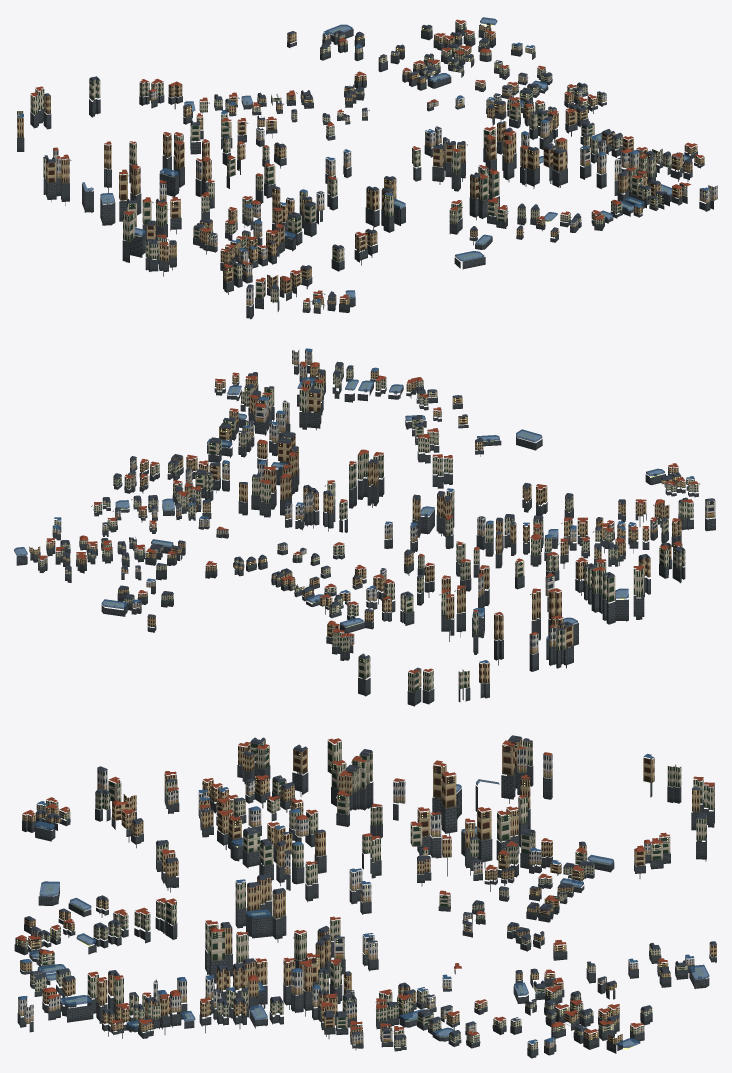
File: osm_buildings_T_E01_N00_Q1.glb
3 renders of one model, top to bottom at view 1: azimuth 30°, elevation 25°; view 2: azimuth 150°, elevation 25°; view 3: azimuth 270°, elevation 25°, orthographic. The views are drawn at different scales.
Parts seen in each view (by area): view 1: OSM_PBR_T_E01_N00_Q1_foundation, OSM_PBR_T_E01_N00_Q1_wall_french_ochre, OSM_PBR_T_E01_N00_Q1_wall_cream_stucco, OSM_PBR_T_E01_N00_Q1_roof_terracotta, OSM_PBR_T_E01_N00_Q1_roof_mansard_slate, OSM_PBR_T_E01_N00_Q1_wall_pastel_sand, OSM_PBR_T_E01_N00_Q1_greenhouse_blend, OSM_PBR_T_E01_N00_Q1_wall_warm_white, OSM_PBR_T_E01_N00_Q1_roof_mansard_deck, OSM_PBR_T_E01_N00_Q1_roof_mint_metal, OSM_PBR_T_E01_N00_Q1_roof_alpine_blue, OSM_PBR_T_E01_N00_Q1_balcony_railing (+1 smaller); view 2: OSM_PBR_T_E01_N00_Q1_foundation, OSM_PBR_T_E01_N00_Q1_wall_cream_stucco, OSM_PBR_T_E01_N00_Q1_wall_french_ochre, OSM_PBR_T_E01_N00_Q1_roof_terracotta, OSM_PBR_T_E01_N00_Q1_roof_mansard_slate, OSM_PBR_T_E01_N00_Q1_greenhouse_blend, OSM_PBR_T_E01_N00_Q1_wall_warm_white, OSM_PBR_T_E01_N00_Q1_wall_pastel_sand, OSM_PBR_T_E01_N00_Q1_roof_mansard_deck, OSM_PBR_T_E01_N00_Q1_trim_cornice, OSM_PBR_T_E01_N00_Q1_roof_mint_metal, OSM_PBR_T_E01_N00_Q1_roof_alpine_blue; view 3: OSM_PBR_T_E01_N00_Q1_foundation, OSM_PBR_T_E01_N00_Q1_wall_cream_stucco, OSM_PBR_T_E01_N00_Q1_wall_french_ochre, OSM_PBR_T_E01_N00_Q1_roof_terracotta, OSM_PBR_T_E01_N00_Q1_roof_mansard_slate, OSM_PBR_T_E01_N00_Q1_greenhouse_blend, OSM_PBR_T_E01_N00_Q1_wall_pastel_sand, OSM_PBR_T_E01_N00_Q1_wall_warm_white, OSM_PBR_T_E01_N00_Q1_roof_mansard_deck, OSM_PBR_T_E01_N00_Q1_trim_cornice, OSM_PBR_T_E01_N00_Q1_roof_mint_metal, OSM_PBR_T_E01_N00_Q1_roof_alpine_blue (+2 smaller).
Boxes of the visible parts, x1=… form: OSM_PBR_T_E01_N00_Q1_foundation: x1=17, y1=24, x2=713, y2=319; OSM_PBR_T_E01_N00_Q1_wall_french_ochre: x1=17, y1=23, x2=704, y2=304; OSM_PBR_T_E01_N00_Q1_wall_cream_stucco: x1=17, y1=21, x2=670, y2=309; OSM_PBR_T_E01_N00_Q1_roof_terracotta: x1=31, y1=19, x2=703, y2=301; OSM_PBR_T_E01_N00_Q1_roof_mansard_slate: x1=43, y1=25, x2=691, y2=300; OSM_PBR_T_E01_N00_Q1_wall_pastel_sand: x1=56, y1=44, x2=687, y2=263; OSM_PBR_T_E01_N00_Q1_greenhouse_blend: x1=82, y1=17, x2=689, y2=298; OSM_PBR_T_E01_N00_Q1_wall_warm_white: x1=53, y1=32, x2=717, y2=305; OSM_PBR_T_E01_N00_Q1_roof_mansard_deck: x1=47, y1=24, x2=690, y2=298; OSM_PBR_T_E01_N00_Q1_roof_mint_metal: x1=30, y1=30, x2=696, y2=307; OSM_PBR_T_E01_N00_Q1_roof_alpine_blue: x1=17, y1=30, x2=709, y2=302; OSM_PBR_T_E01_N00_Q1_balcony_railing: x1=30, y1=24, x2=703, y2=307; OSM_PBR_T_E01_N00_Q1_foundation: x1=16, y1=364, x2=715, y2=706; OSM_PBR_T_E01_N00_Q1_wall_cream_stucco: x1=38, y1=364, x2=698, y2=692; OSM_PBR_T_E01_N00_Q1_wall_french_ochre: x1=29, y1=364, x2=685, y2=687; OSM_PBR_T_E01_N00_Q1_roof_terracotta: x1=38, y1=361, x2=698, y2=673; OSM_PBR_T_E01_N00_Q1_roof_mansard_slate: x1=60, y1=362, x2=715, y2=669; OSM_PBR_T_E01_N00_Q1_greenhouse_blend: x1=14, y1=377, x2=664, y2=639; OSM_PBR_T_E01_N00_Q1_wall_warm_white: x1=115, y1=350, x2=715, y2=654; OSM_PBR_T_E01_N00_Q1_wall_pastel_sand: x1=52, y1=363, x2=636, y2=647; OSM_PBR_T_E01_N00_Q1_roof_mansard_deck: x1=17, y1=361, x2=687, y2=657; OSM_PBR_T_E01_N00_Q1_trim_cornice: x1=32, y1=349, x2=714, y2=671; OSM_PBR_T_E01_N00_Q1_roof_mint_metal: x1=30, y1=370, x2=697, y2=679; OSM_PBR_T_E01_N00_Q1_roof_alpine_blue: x1=53, y1=348, x2=694, y2=663; OSM_PBR_T_E01_N00_Q1_foundation: x1=14, y1=761, x2=716, y2=1058; OSM_PBR_T_E01_N00_Q1_wall_cream_stucco: x1=15, y1=739, x2=714, y2=1050; OSM_PBR_T_E01_N00_Q1_wall_french_ochre: x1=20, y1=739, x2=716, y2=1044; OSM_PBR_T_E01_N00_Q1_roof_terracotta: x1=16, y1=738, x2=714, y2=1035; OSM_PBR_T_E01_N00_Q1_roof_mansard_slate: x1=25, y1=736, x2=716, y2=1039; OSM_PBR_T_E01_N00_Q1_greenhouse_blend: x1=29, y1=779, x2=709, y2=1048; OSM_PBR_T_E01_N00_Q1_wall_pastel_sand: x1=31, y1=748, x2=606, y2=1048; OSM_PBR_T_E01_N00_Q1_wall_warm_white: x1=18, y1=754, x2=694, y2=1044; OSM_PBR_T_E01_N00_Q1_roof_mansard_deck: x1=31, y1=735, x2=707, y2=1046; OSM_PBR_T_E01_N00_Q1_trim_cornice: x1=19, y1=738, x2=715, y2=1044; OSM_PBR_T_E01_N00_Q1_roof_mint_metal: x1=16, y1=743, x2=713, y2=1044; OSM_PBR_T_E01_N00_Q1_roof_alpine_blue: x1=18, y1=753, x2=694, y2=1043.
Bounding box in the file's own units: 1004 × 123 × 996.
18 materials, 16 textured.
